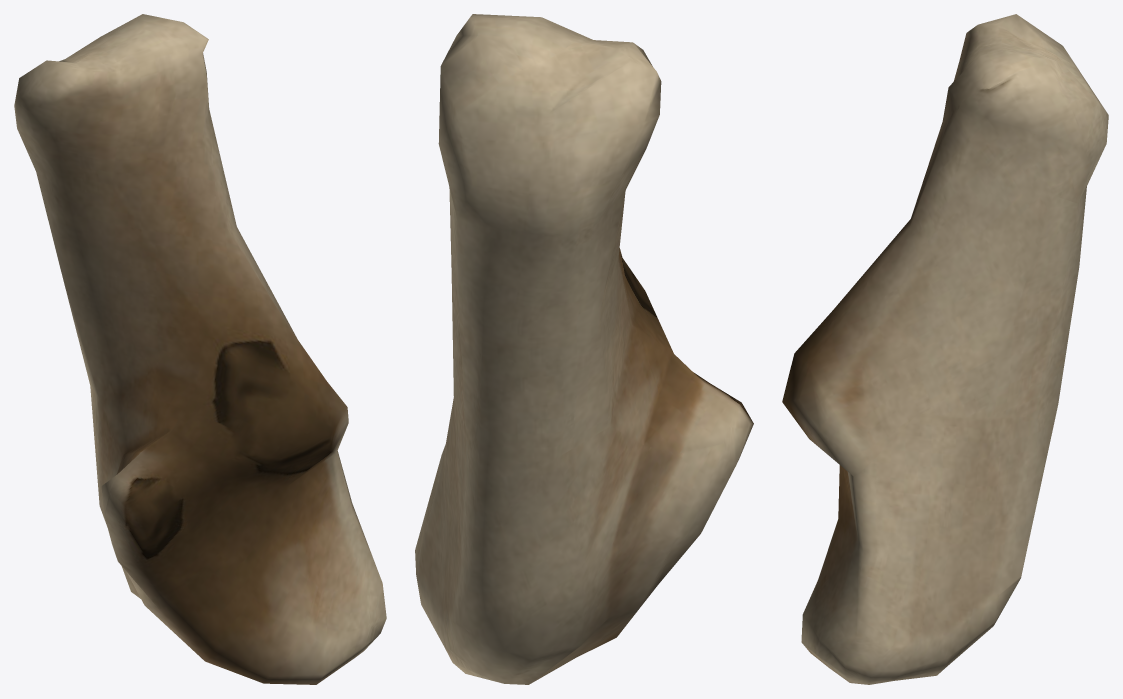
Rendered from Calcaneus.glb.
3 views of the same model, side by side, from view 1: azimuth 30°, elevation 25°; view 2: azimuth 150°, elevation 25°; view 3: azimuth 270°, elevation 25° (orthographic). The views are drawn at different scales.
Parts seen in each view (by area): view 1: Calcaneus_Left1:Group1915; view 2: Calcaneus_Left1:Group1915; view 3: Calcaneus_Left1:Group1915.
Boxes of the visible parts, x1,y1,x2,y2 form: Calcaneus_Left1:Group1915: (14, 14, 386, 684); Calcaneus_Left1:Group1915: (415, 14, 753, 684); Calcaneus_Left1:Group1915: (782, 14, 1108, 684).
Size of the model in its own units: 20.32 by 42.77 by 21.58.
Materials: 1 (1 with a texture image).
